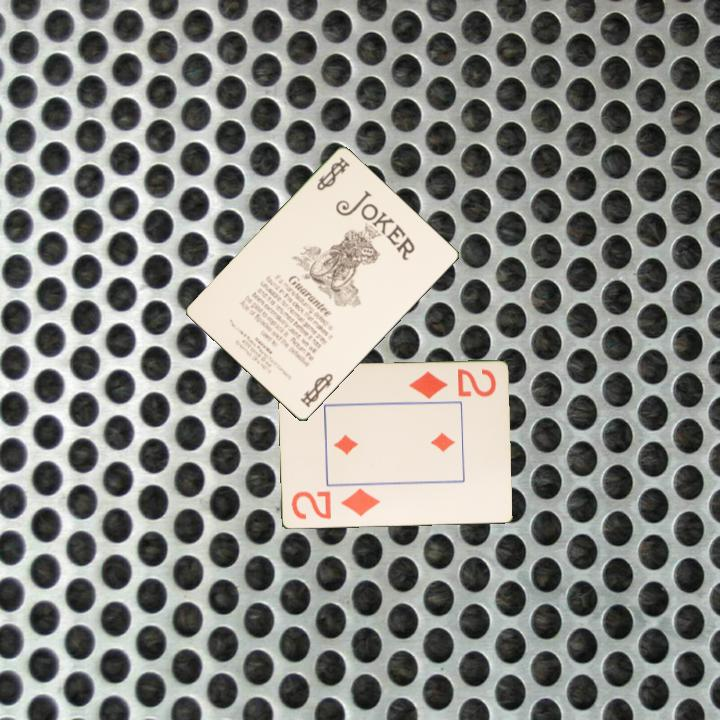2d: (287, 485, 383, 522), (405, 366, 499, 402)
JK: (297, 370, 336, 411), (313, 154, 352, 194)
